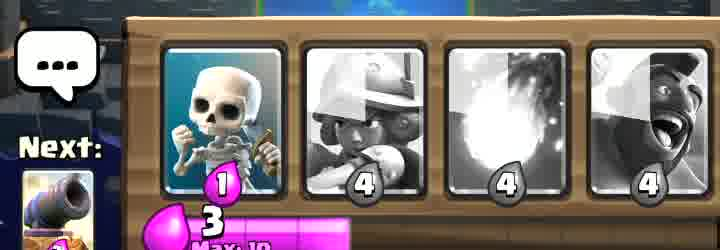cannon: (22, 171, 94, 250)
